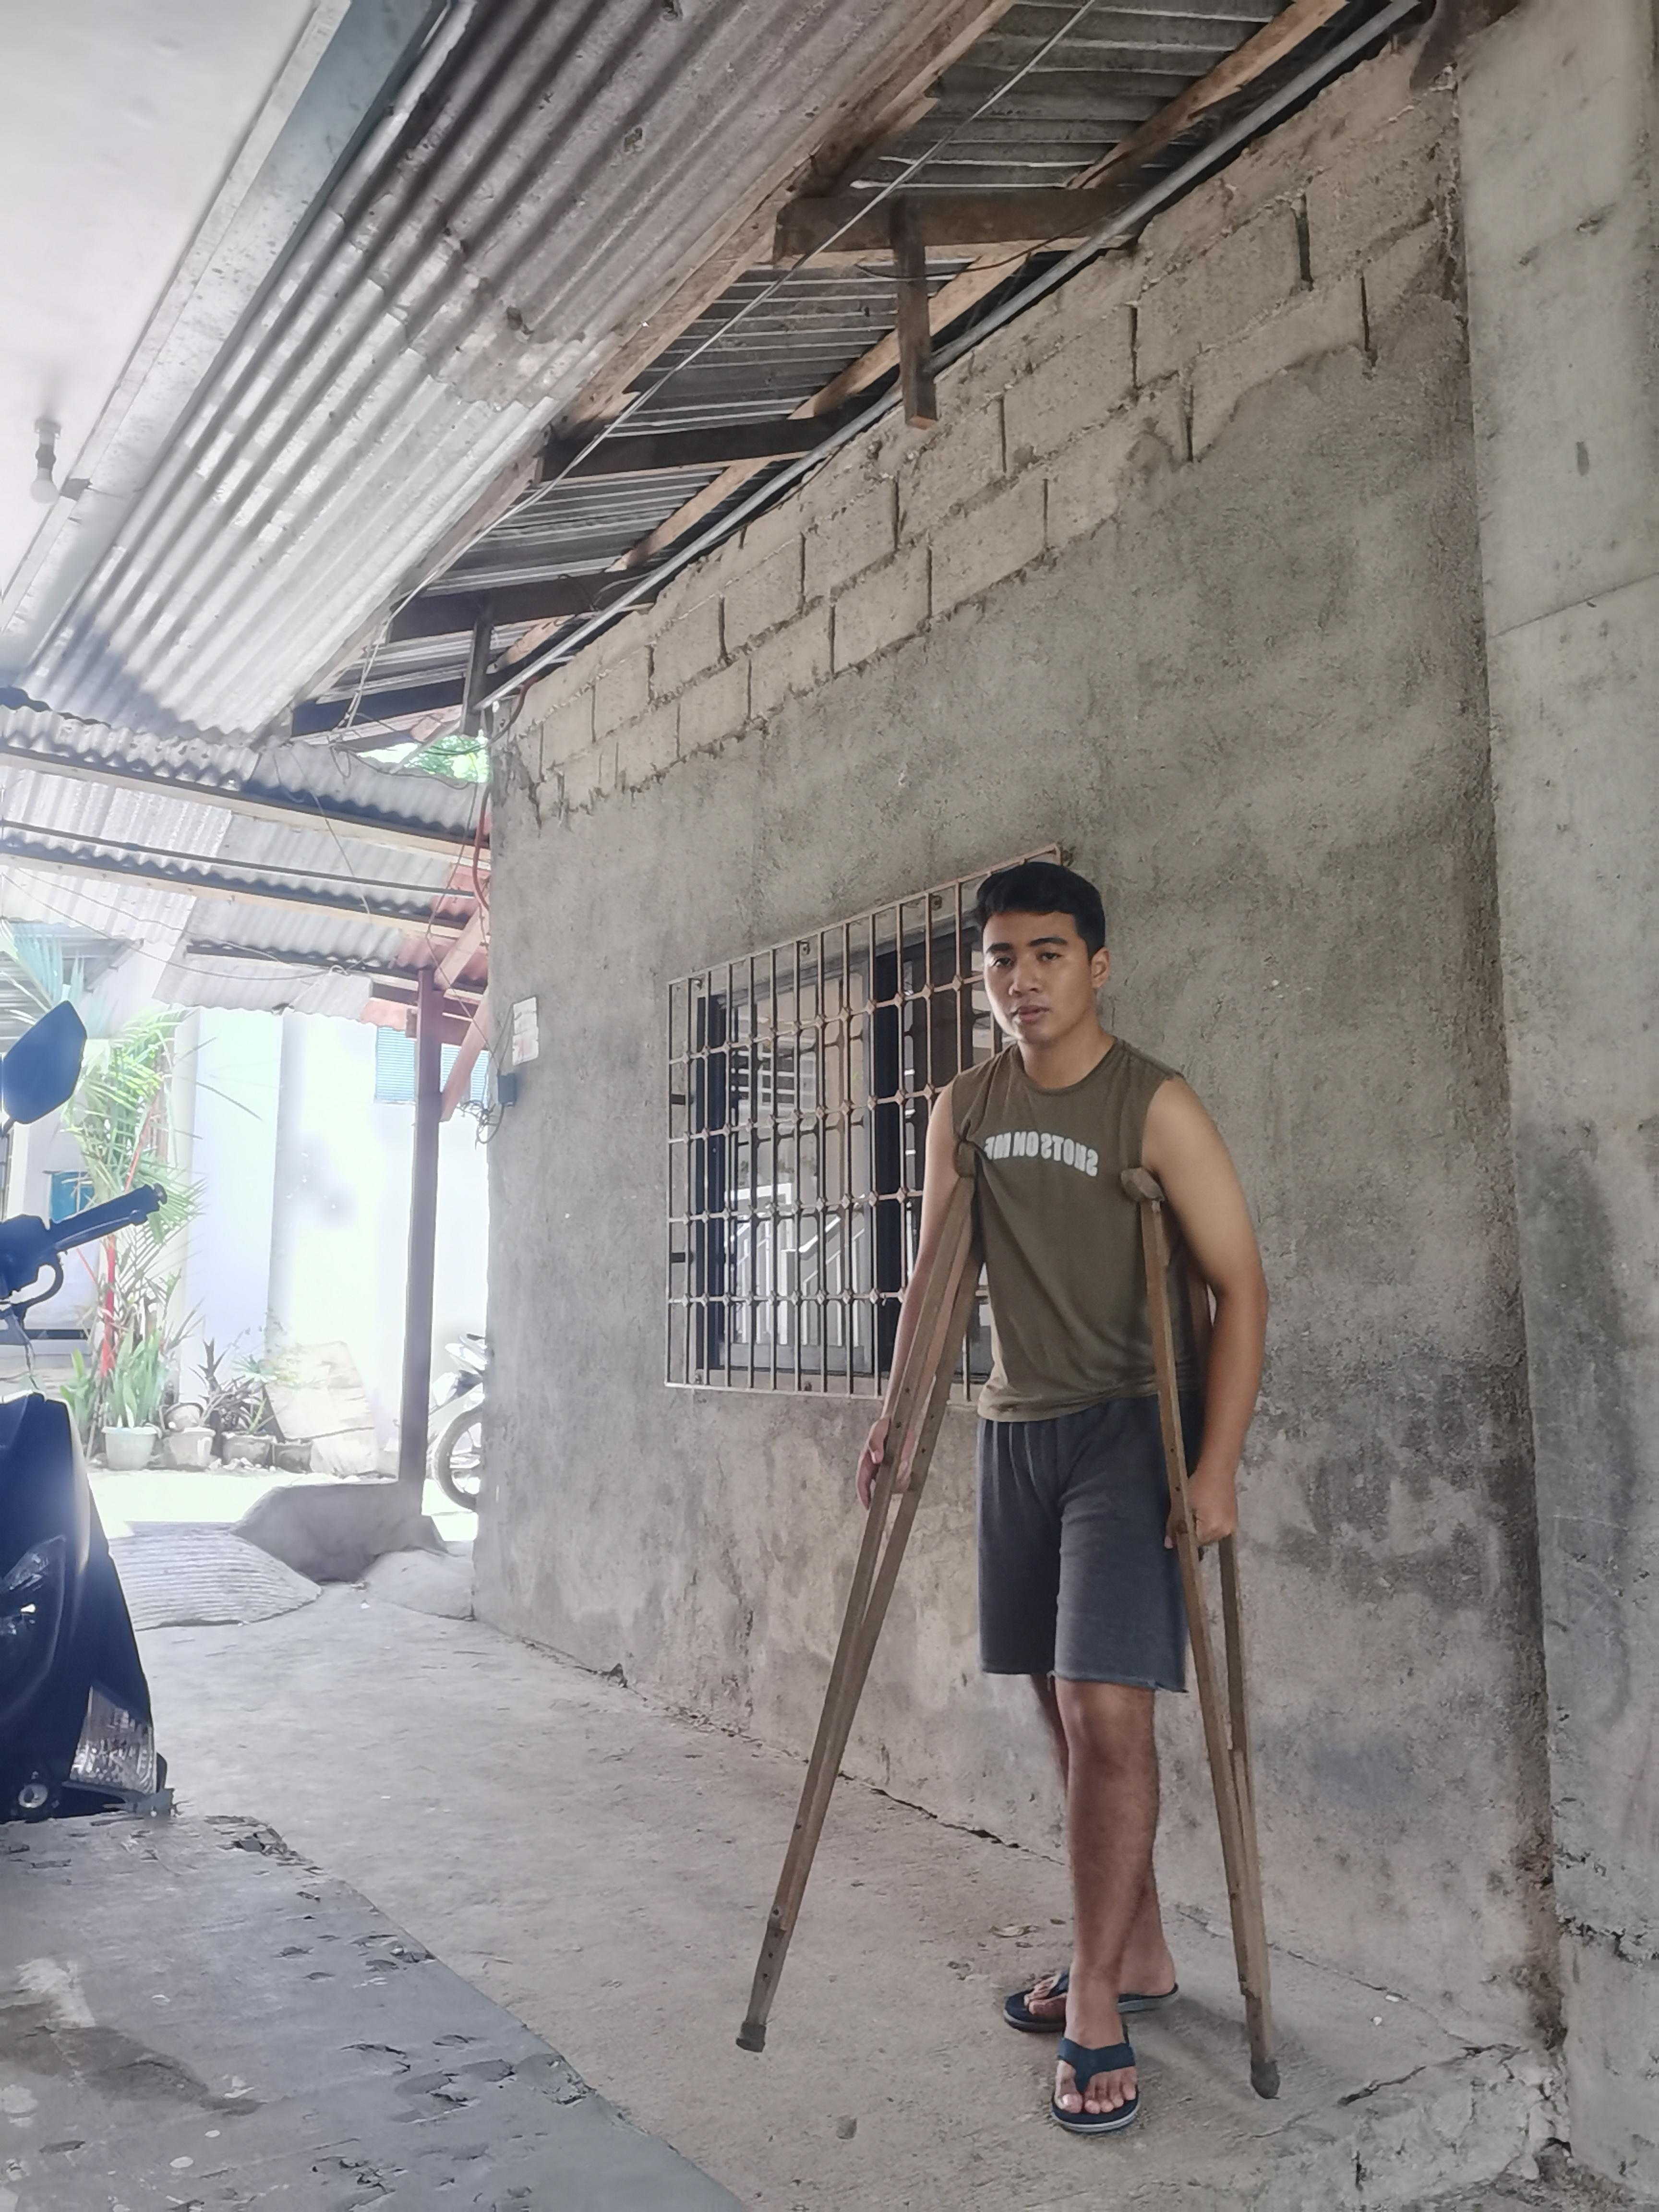crutches: (721, 836, 1293, 2142)
